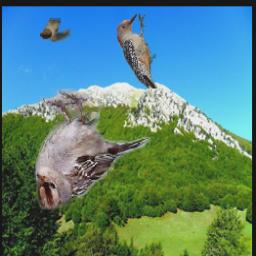Sparrow: (31, 90, 149, 211)
Swallow: (40, 19, 71, 43)
Woodpecker: (116, 15, 156, 90)
